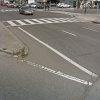Crosswalk: (6, 13, 89, 31)
